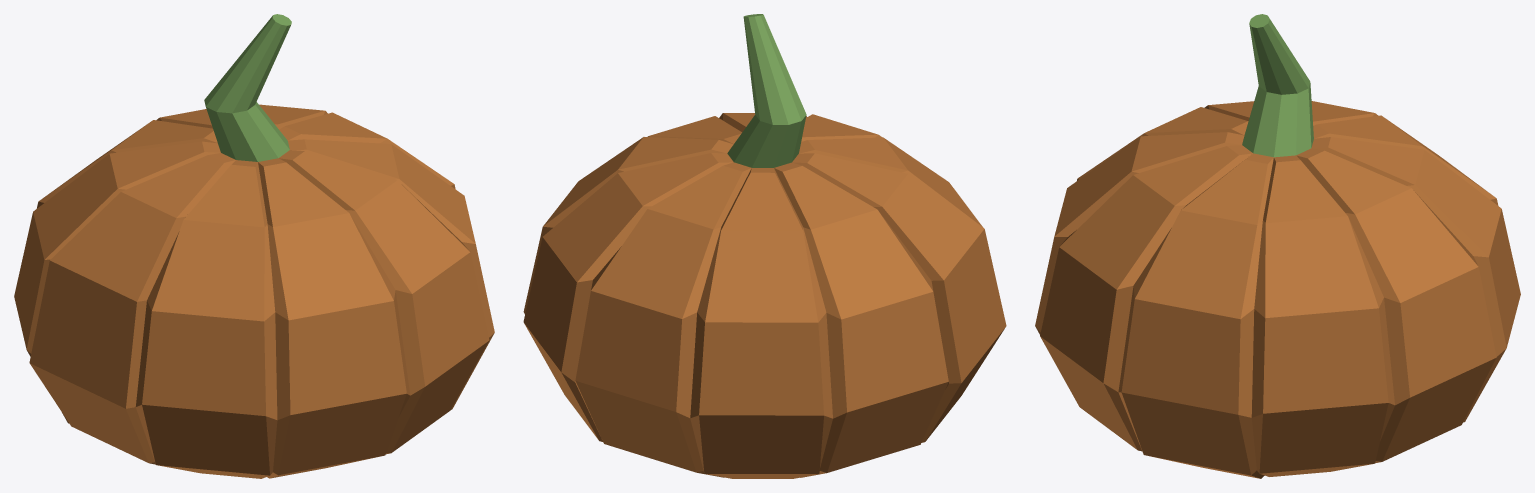
File: pumpkin_crop.gltf
3 renders of one model, left to right at view 1: azimuth 30°, elevation 25°; view 2: azimuth 150°, elevation 25°; view 3: azimuth 270°, elevation 25°, orthographic. The views are drawn at different scales.
Parts seen in each view (by area): view 1: pumpkin_crop; view 2: pumpkin_crop; view 3: pumpkin_crop.
Boxes of the visible parts, x1=… form: pumpkin_crop: x1=14, y1=14, x2=494, y2=478; pumpkin_crop: x1=523, y1=14, x2=1006, y2=478; pumpkin_crop: x1=1035, y1=14, x2=1520, y2=478.
Bounding box in the file's own units: 0.5875 × 0.5544 × 0.5781.
Materials: 1 (1 with a texture image).
